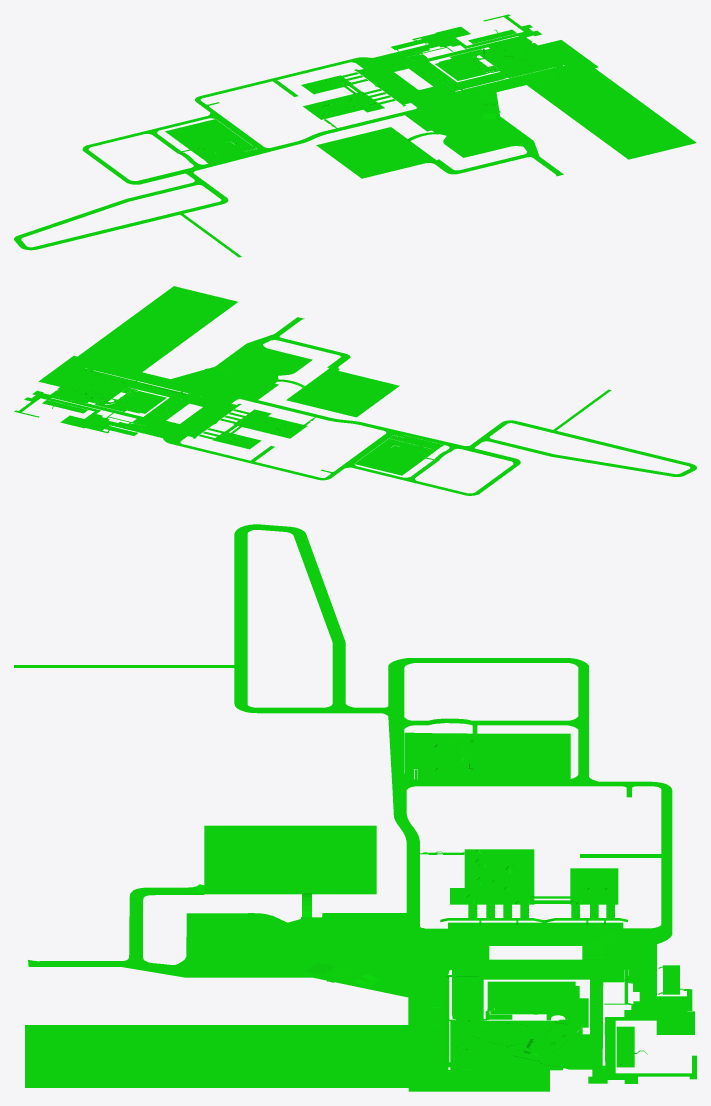
Rendered from Walkable3.fbx.
3 views of the same model, one above another, from view 1: azimuth 30°, elevation 25°; view 2: azimuth 150°, elevation 25°; view 3: azimuth 270°, elevation 25° (orthographic). The views are drawn at different scales.
Visible parts, largest first — view 1: polySurface415523, polySurface415496, polySurface415505, polySurface415492, polySurface415497, polySurface415491, polySurface415495, polySurface415469, pPlane22, pPlane137, polySurface415490, polySurface416182 (+3 smaller); view 2: polySurface415523, polySurface415496, polySurface415505, polySurface415492, polySurface415497, polySurface415491, polySurface415495, polySurface415469, pPlane22, pPlane137, polySurface415490, polySurface416182 (+4 smaller); view 3: polySurface415523, polySurface415496, polySurface415505, polySurface415492, polySurface415497, polySurface415491, polySurface415495, polySurface415469, pPlane22, pPlane137, polySurface415490, polySurface416182 (+8 smaller).
Part boxes in pixels (box(x1,y1,x2,y2)): polySurface415523: box(526, 68, 696, 159); polySurface415496: box(316, 127, 563, 178); polySurface415505: box(405, 92, 533, 157); polySurface415492: box(351, 30, 541, 104); polySurface415497: box(411, 40, 598, 110); polySurface415491: box(82, 107, 420, 184); polySurface415495: box(14, 171, 241, 257); polySurface415469: box(165, 119, 245, 153); pPlane22: box(303, 86, 405, 119); pPlane137: box(479, 43, 564, 77); polySurface415490: box(195, 59, 354, 151); polySurface416182: box(435, 55, 487, 80); polySurface415523: box(78, 286, 237, 372); polySurface415496: box(247, 317, 399, 417); polySurface415505: box(171, 343, 312, 399); polySurface415492: box(32, 390, 236, 444); polySurface415497: box(38, 356, 240, 403); polySurface415491: box(237, 396, 520, 495); polySurface415495: box(465, 389, 696, 476); polySurface415469: box(355, 442, 433, 475); pPlane22: box(214, 403, 306, 438); pPlane137: box(57, 368, 135, 404); polySurface415490: box(176, 431, 400, 480); polySurface416182: box(112, 391, 166, 413); polySurface415523: box(25, 1025, 409, 1087); polySurface415496: box(28, 825, 376, 977); polySurface415505: box(186, 913, 408, 997); polySurface415492: box(448, 922, 672, 1083); polySurface415497: box(408, 928, 549, 1091); polySurface415491: box(388, 658, 598, 928); polySurface415495: box(14, 524, 388, 715); polySurface415469: box(454, 725, 570, 779); pPlane22: box(440, 849, 544, 924); pPlane137: box(450, 1020, 576, 1070); polySurface415490: box(404, 774, 672, 928); polySurface416182: box(487, 981, 575, 1013).
Bounding box in the file's own units: 77624 × 543 × 39500.
